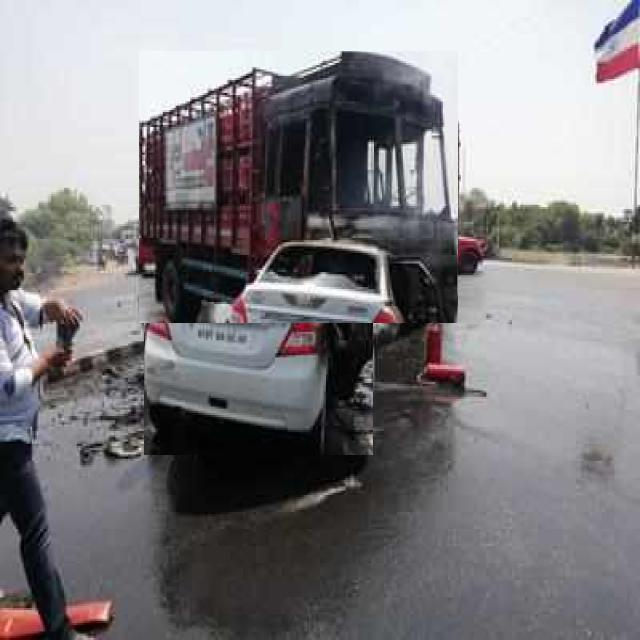accident: (140, 52, 458, 323)
car: (145, 240, 373, 455)
